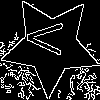V: (26, 20, 72, 57)
